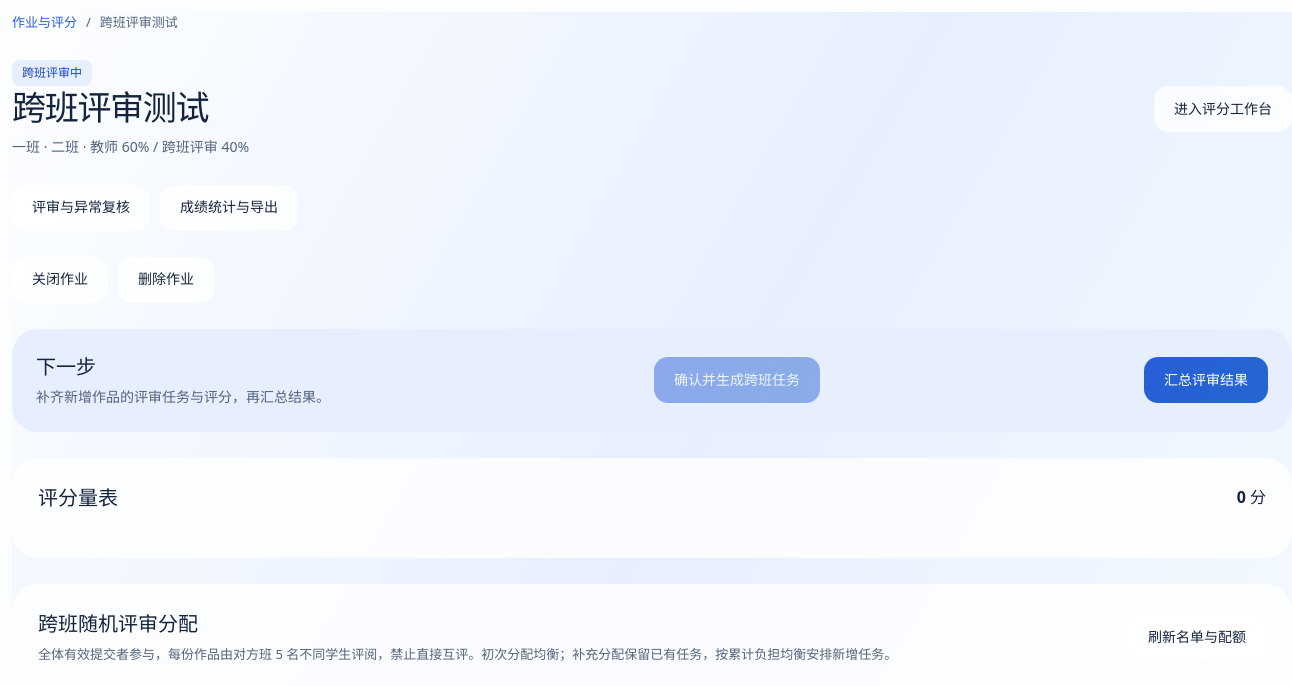
Test case: 跨班分配确认 › REVIEWER_GRADING 可汇总并显示失败
Click the button "汇总评审结果" at (1206,380), box [1144, 357, 1268, 403]
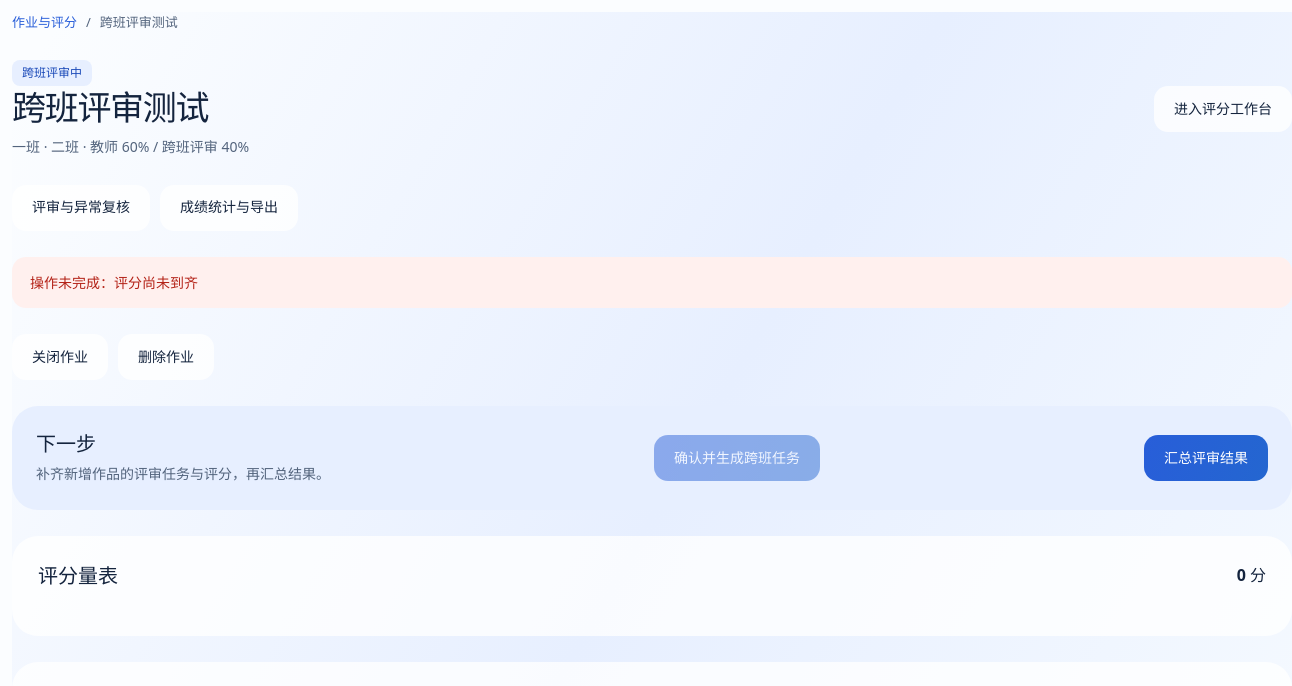
expect the button "汇总评审结果" is enabled: met, box [1144, 435, 1268, 481]
expect the message "操作未完成：评分尚未到齐" is shown: met, box [12, 257, 1291, 308]
